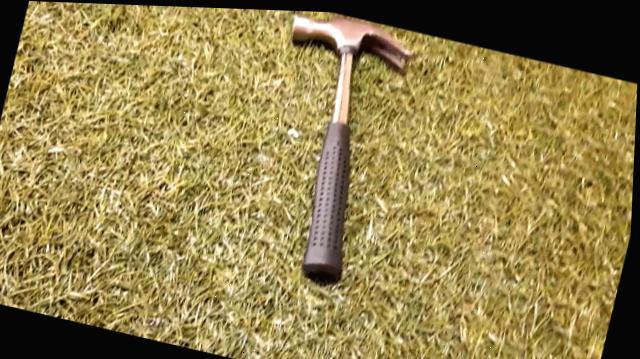hammer: (229, 7, 426, 292)
